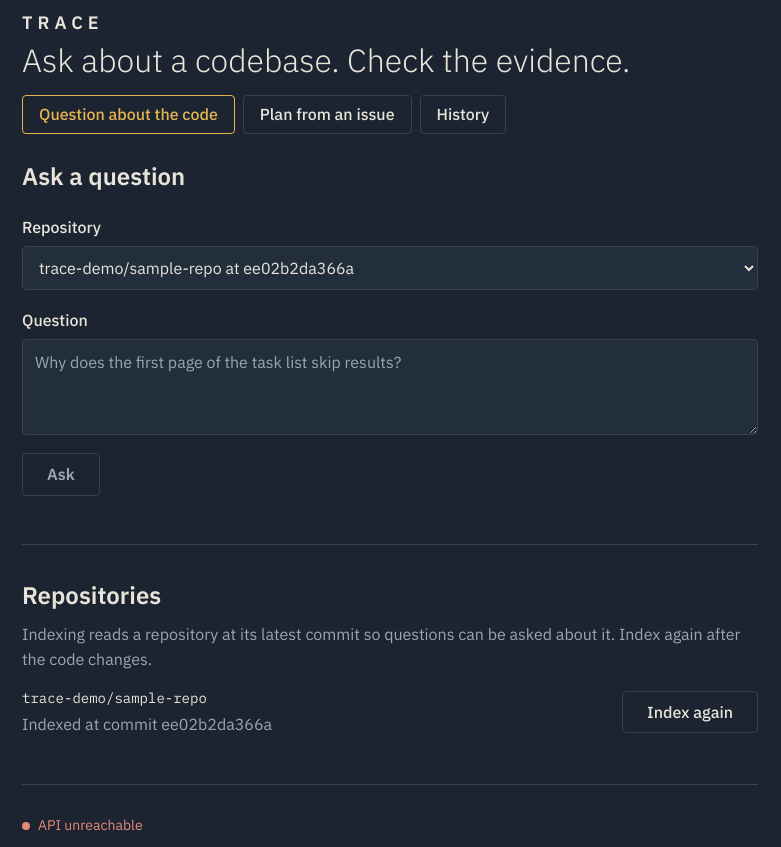
issue list › keeps the issues already shown when loading more fails
This screenshot has width=781, height=847.
Click the button "Plan from an issue" at (327, 115), box [243,95,412,134]
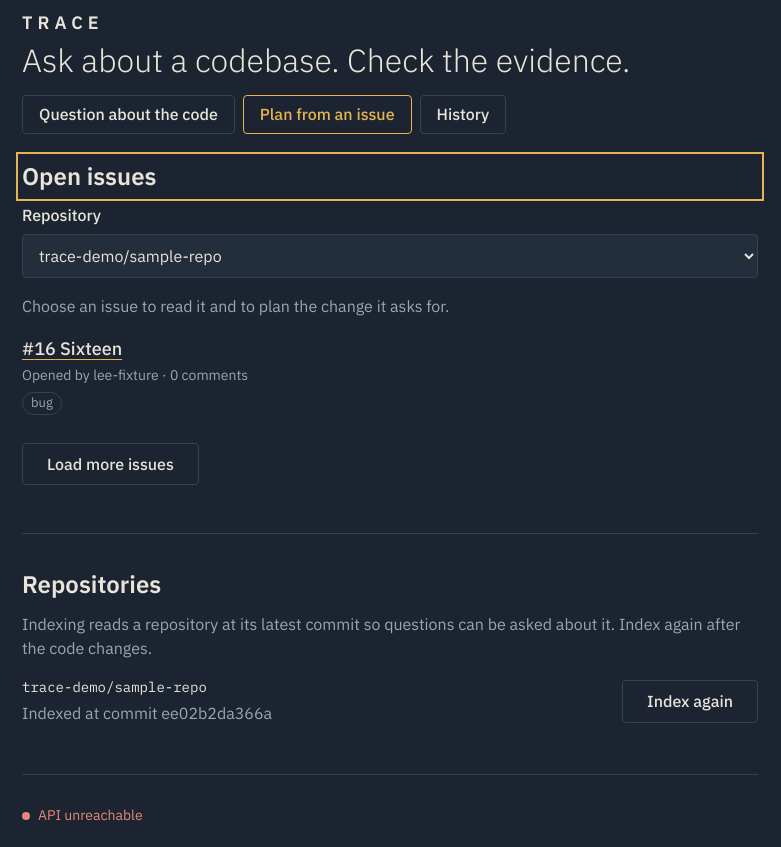
Click the button "Load more issues" at (110, 464), box [22,443,199,485]
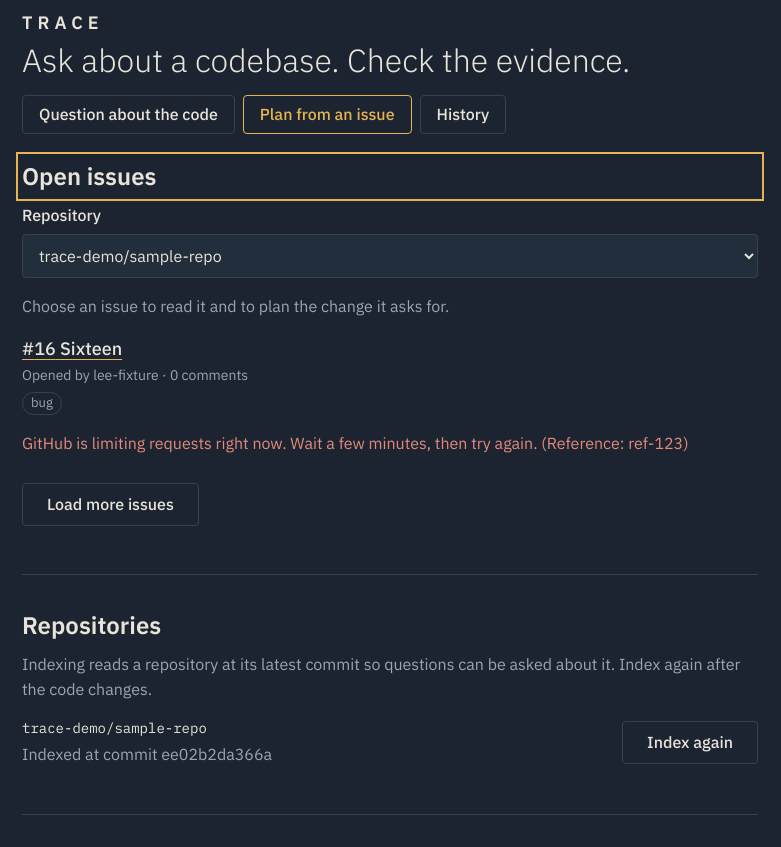
Check: the button "#16 Sixteen" is shown, box [22,335,122,363]
Check: the 1st message shows "GitHub is limiting requests right now. Wait a few minutes, then try again. (Reference: ref-123)", box [22,431,758,455]
